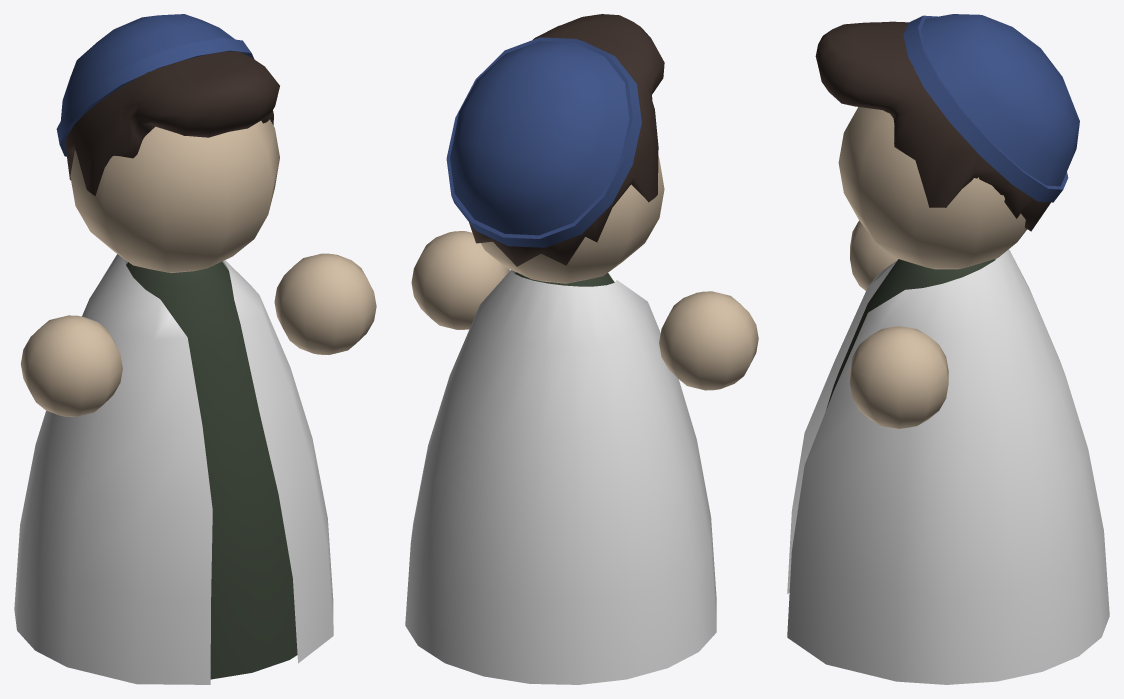
File: char_01_labcoat_bag_off.fbx
3 renders of one model, left to right at view 1: azimuth 30°, elevation 25°; view 2: azimuth 150°, elevation 25°; view 3: azimuth 270°, elevation 25°, orthographic. The views are drawn at different scales.
Parts seen in each view (by area): view 1: lab_coat_00, Body, Head, Hair_00, Hat_00, R_hand_00, L_hand_00; view 2: lab_coat_00, Hat_00, Hair_00, R_hand_00, L_hand_00, Head; view 3: lab_coat_00, Hat_00, Head, Hair_00, L_hand_00, Body, R_hand_00.
Part boxes in pixels (x1,y1,x2,y2): lab_coat_00: (14,254,333,684); Body: (126,261,297,679); Head: (70,119,279,273); Hair_00: (66,51,279,195); Hat_00: (56,14,254,156); R_hand_00: (21,315,122,416); L_hand_00: (274,253,376,354); lab_coat_00: (405,270,716,684); Hat_00: (446,37,641,247); Hair_00: (469,14,664,266); R_hand_00: (659,291,758,390); L_hand_00: (411,231,509,329); Head: (481,155,664,283); lab_coat_00: (787,249,1109,684); Hat_00: (903,14,1079,202); Head: (838,107,1027,269); Hair_00: (815,21,1050,231); L_hand_00: (850,326,948,428); Body: (826,259,994,409); R_hand_00: (850,220,898,290).
Bounding box in the file's own units: 98.71 × 162 × 79.82.
